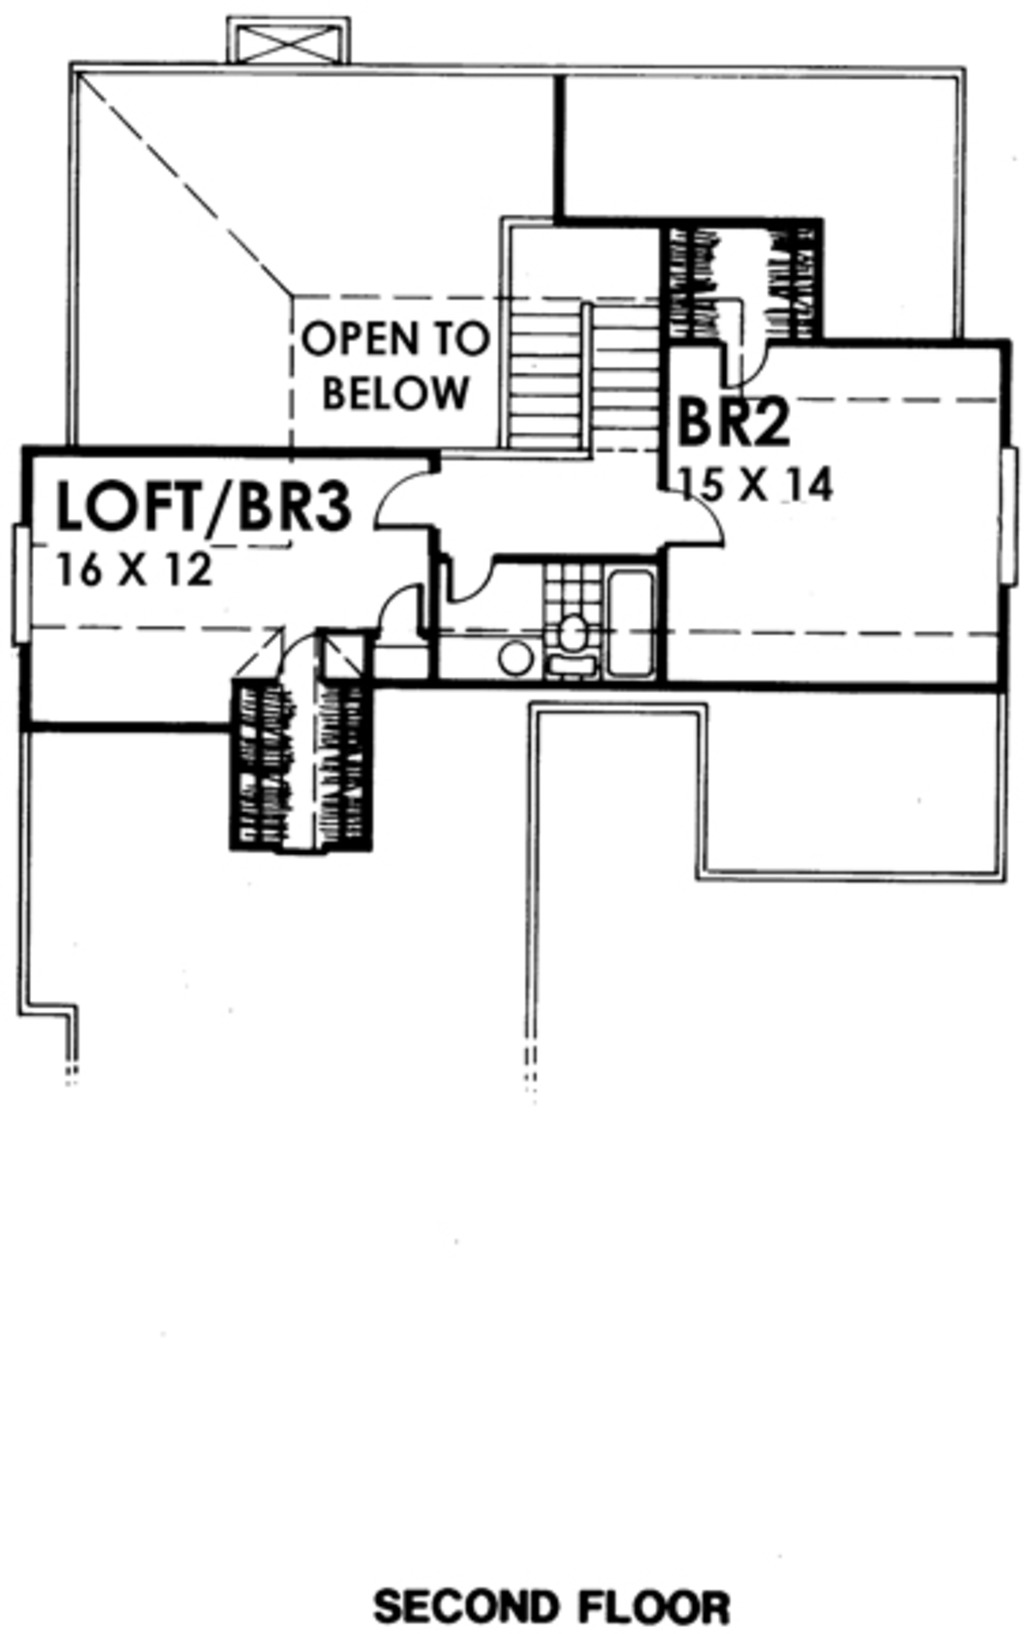door: (353, 454, 458, 539), (643, 484, 733, 554), (436, 537, 516, 609), (713, 339, 793, 409), (376, 579, 446, 649)
large_sink: (538, 604, 613, 694)
small_sink: (483, 637, 541, 697)
stairs: (491, 298, 676, 472)
tub: (588, 544, 672, 697)
window: (6, 521, 53, 654), (993, 442, 1024, 613)
